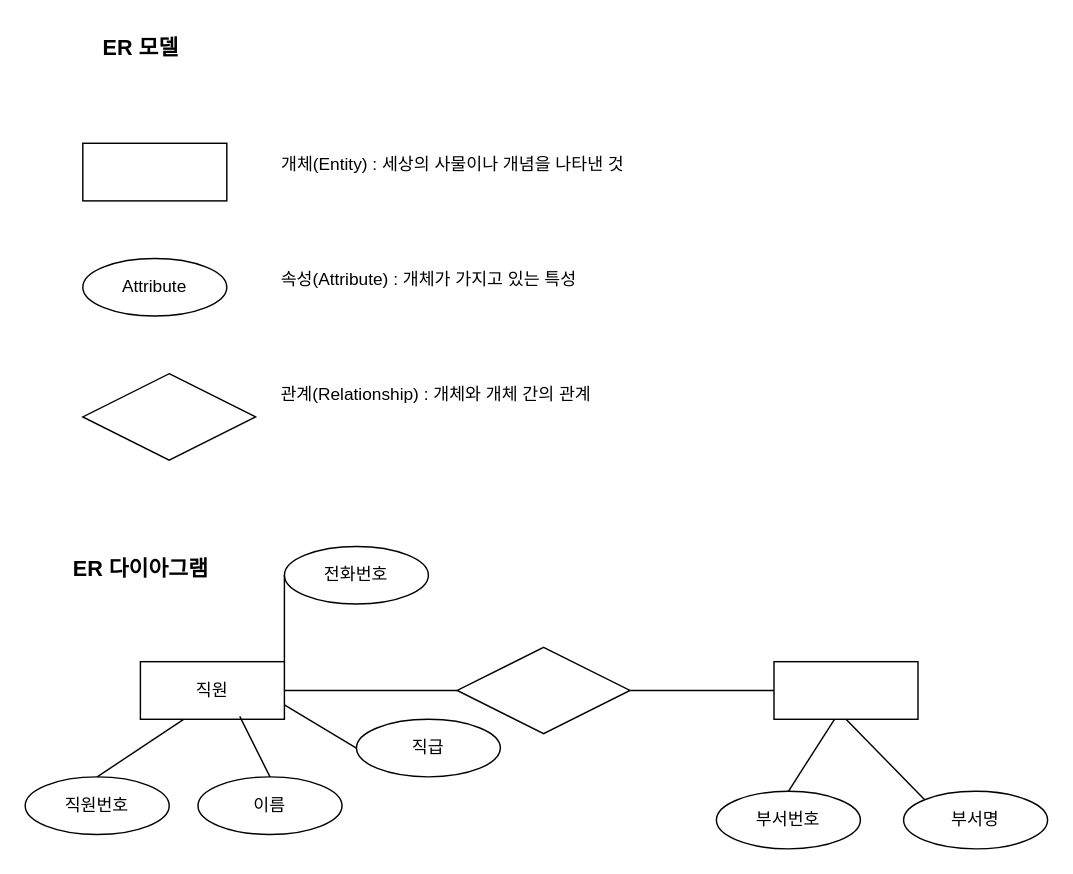
Image size: 1073x874. Some labels were removed from this diagram. Here are the shapes that lost their labels. From the top down, the centre of each, then its label:
At [154,171]: "Entity".
At [168,416]: "Relationship".
At [543,690]: "소속".
At [845,689]: "부서".
